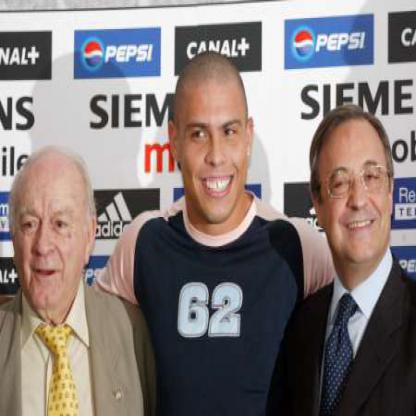face: (12, 150, 90, 315), (178, 53, 251, 224), (319, 109, 394, 268)
